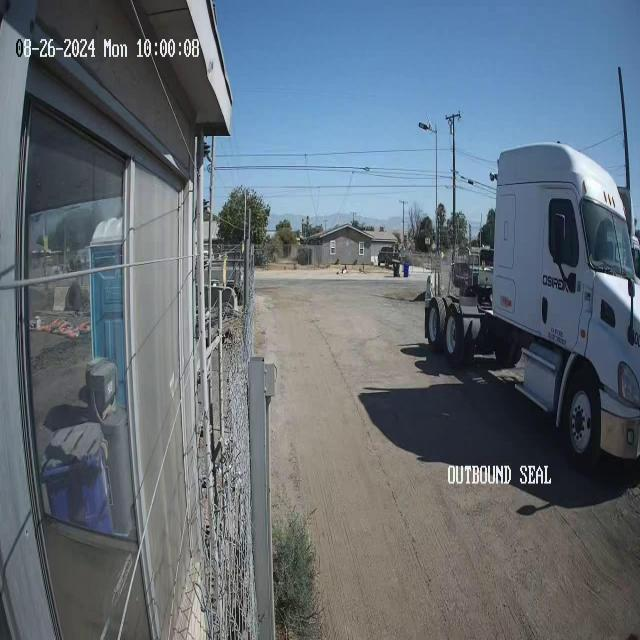TRUCK_IN: (424, 140, 639, 470)
